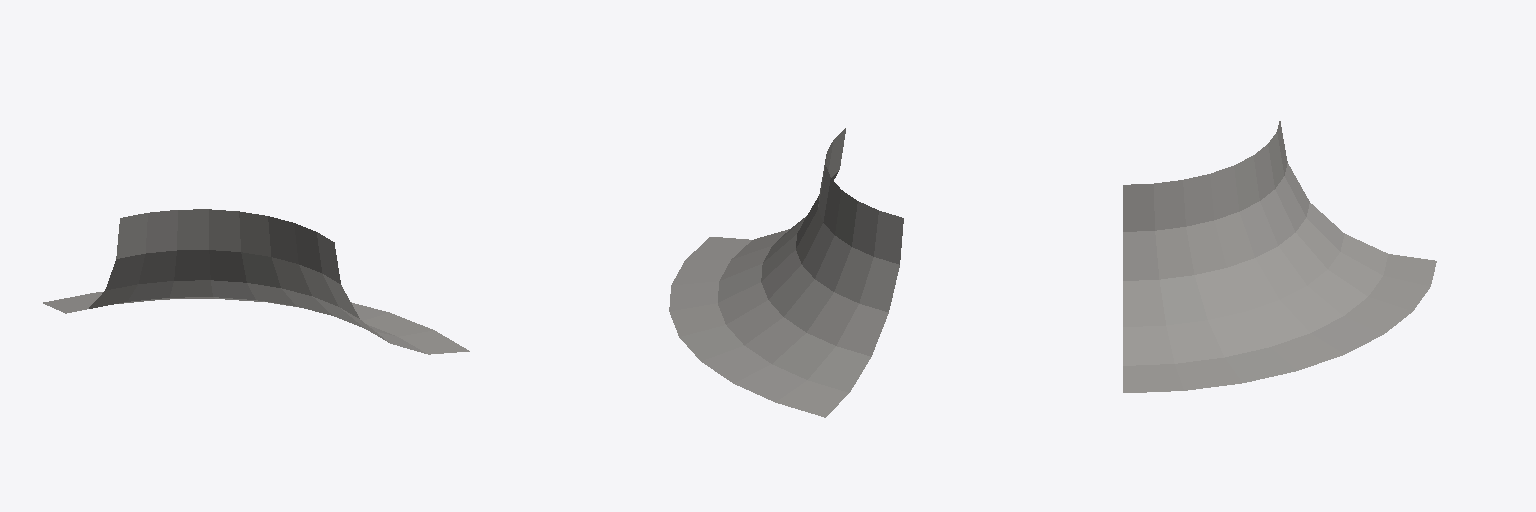
The model's file is Cave_Terrain_Corner_Outer_2x2_Base.obj.
The picture shows the model from 3 angles: view 1: azimuth 30°, elevation 25°; view 2: azimuth 150°, elevation 25°; view 3: azimuth 270°, elevation 25°; orthographic projection.
Parts seen in each view (by area): view 1: object1; view 2: object1; view 3: object1.
Boxes of the visible parts, box(x1,y1,x2,y2) form: object1: box(43, 209, 469, 354); object1: box(669, 128, 903, 417); object1: box(1123, 121, 1436, 392).
Size of the model in its own units: 2 by 1 by 2.